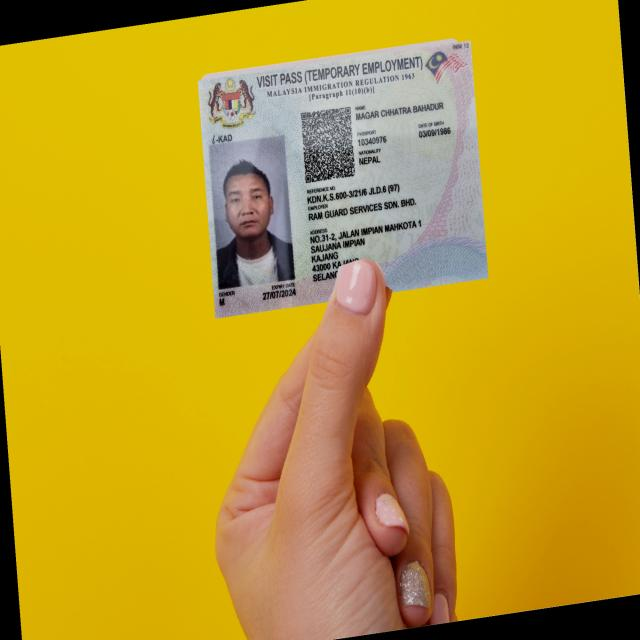ikad-temp: (197, 38, 488, 318)
